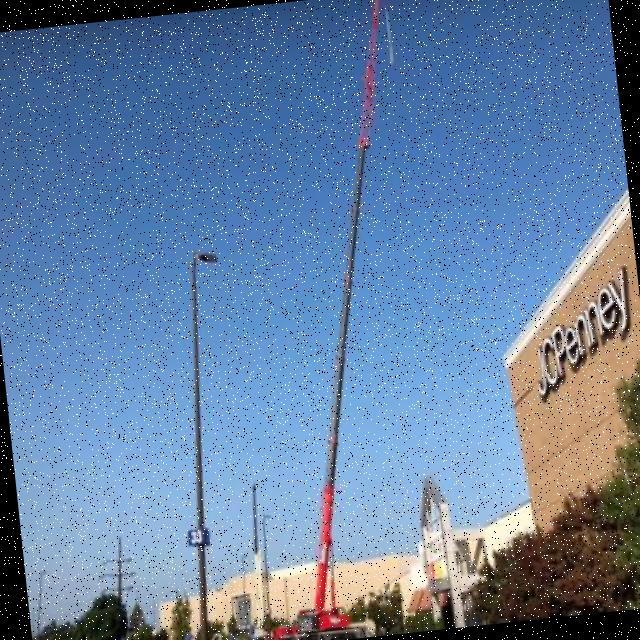Mobile Crane: (182, 0, 455, 640)
